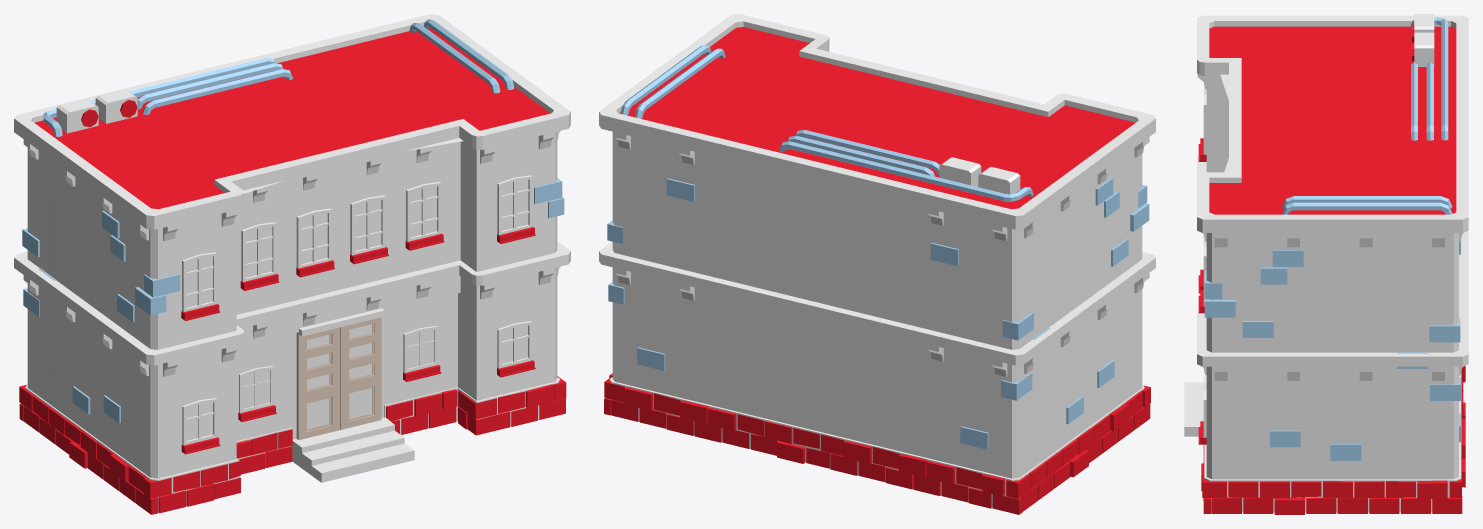
The model's file is building_quaternius_2Story_Wide.glb.
The picture shows the model from 3 angles, left to right: view 1: azimuth 30°, elevation 25°; view 2: azimuth 150°, elevation 25°; view 3: azimuth 270°, elevation 25°; orthographic projection.
Bounding box in the file's own units: 3.83 × 2.75 × 2.26.
1 material, 1 textured.
